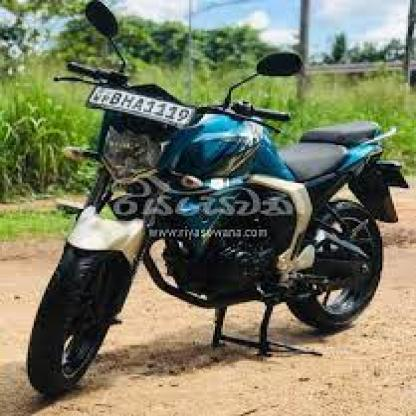bike front: (24, 0, 413, 406)
number plate: (84, 90, 194, 126)
